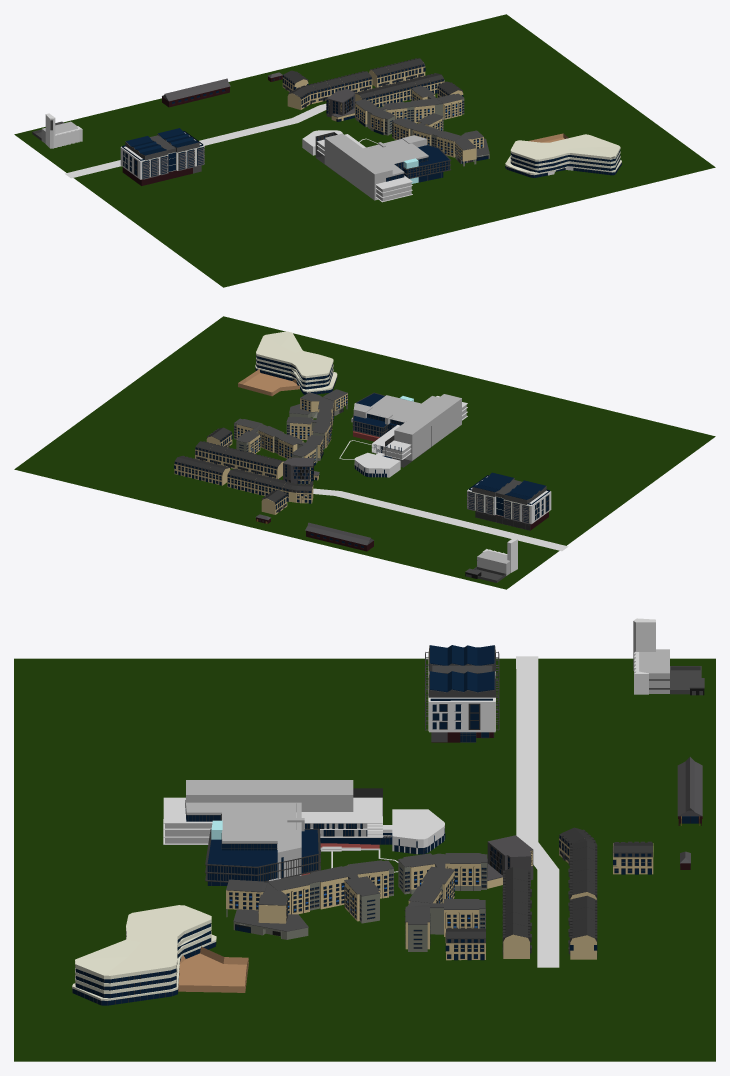
Rendered from LearningHub2.glb.
3 renders of one model, top to bottom at view 1: azimuth 30°, elevation 25°; view 2: azimuth 150°, elevation 25°; view 3: azimuth 270°, elevation 25°, orthographic. The views are drawn at different scales.
Visible parts, largest first — view 1: Plane.002, CHWhiteBorder, Cube.031, Cube.021, Plane.003, CreativeHubTop, SolarRoof, SecondFloorBlock, LeftBlind, Windows.025, TopBlock, SecondFloorBlock.001 (+4 smaller); view 2: Plane.002, Cube.031, CHWhiteBorder, Plane.003, Cube.021, Cube.012, SolarRoof, RightBlind, Cube.034, SecondFloorBlock, CreativeHubTop, SHbase (+6 smaller); view 3: Plane.002, Plane.003, CHWhiteBorder, Cube.021, Cube.031, SecondFloorBlock, Cube.029, Cube.012, SolarRoof, Cube.034, CreativeHubTop, SenateBaseMainBlock (+12 smaller).
Part boxes in pixels (<box>): Plane.002: <box>14,14,715,287</box>; CHWhiteBorder: <box>510,134,620,170</box>; Cube.031: <box>324,133,392,200</box>; Cube.021: <box>363,135,428,177</box>; Plane.003: <box>65,80,444,178</box>; CreativeHubTop: <box>511,150,620,172</box>; SolarRoof: <box>126,128,198,155</box>; SecondFloorBlock: <box>386,145,449,181</box>; LeftBlind: <box>142,147,204,179</box>; Windows.025: <box>142,147,203,178</box>; TopBlock: <box>125,133,199,160</box>; SecondFloorBlock.001: <box>315,132,451,181</box>; Plane.002: <box>14,316,715,589</box>; Cube.031: <box>394,394,461,460</box>; CHWhiteBorder: <box>256,331,333,386</box>; Plane.003: <box>313,488,568,551</box>; Cube.021: <box>351,395,438,424</box>; Cube.012: <box>238,369,299,396</box>; SolarRoof: <box>473,472,545,499</box>; RightBlind: <box>467,491,529,524</box>; Cube.034: <box>354,452,400,477</box>; SecondFloorBlock: <box>353,393,404,436</box>; CreativeHubTop: <box>256,355,332,389</box>; SHbase: <box>283,457,313,484</box>; Plane.002: <box>14,658,715,1061</box>; Plane.003: <box>516,656,559,967</box>; CHWhiteBorder: <box>75,905,211,993</box>; Cube.021: <box>185,798,304,880</box>; Cube.031: <box>186,780,353,811</box>; SecondFloorBlock: <box>185,809,318,881</box>; Cube.029: <box>163,797,382,844</box>; Cube.012: <box>178,946,248,992</box>; SolarRoof: <box>430,645,494,692</box>; Cube.034: <box>383,809,444,854</box>; CreativeHubTop: <box>76,923,210,998</box>; SenateBaseMainBlock: <box>429,671,495,732</box>.
Bounding box in the file's own units: 408 × 25.24 × 299.
